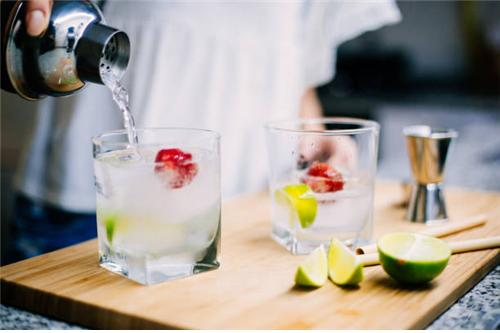alcohol: (91, 124, 220, 284), (264, 119, 378, 254), (0, 0, 132, 104)
